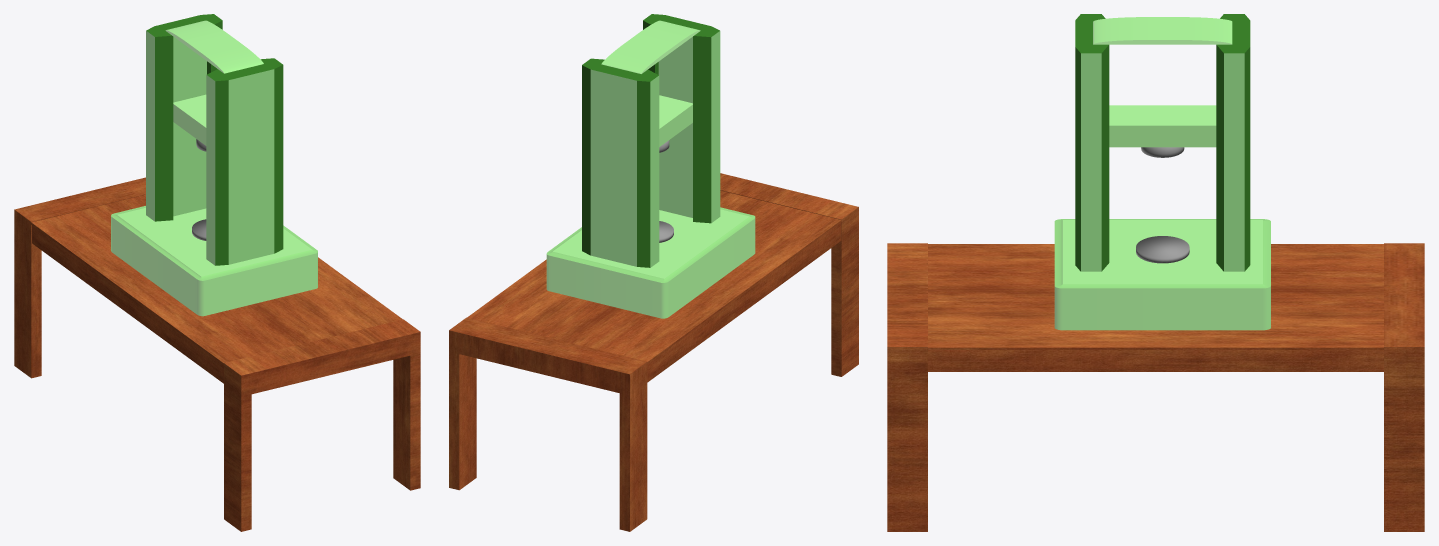
File: Lab_Compresion.gltf
3 renders of one model, left to right at view 1: azimuth 30°, elevation 25°; view 2: azimuth 150°, elevation 25°; view 3: azimuth 270°, elevation 25°, orthographic. The views are drawn at different scales.
Visible parts, largest first — view 1: Lab_Compre_name (×6); view 2: Lab_Compre_name (×6); view 3: Lab_Compre_name (×7).
Boxes of the visible parts, box(x1,y1,x2,y2) form: Lab_Compre_name (×6): box(14, 14, 420, 531); Lab_Compre_name (×6): box(449, 14, 858, 531); Lab_Compre_name (×7): box(887, 14, 1424, 531).
Size of the model in its own units: 1.37 by 2.78 by 3.
9 materials, 1 textured.
